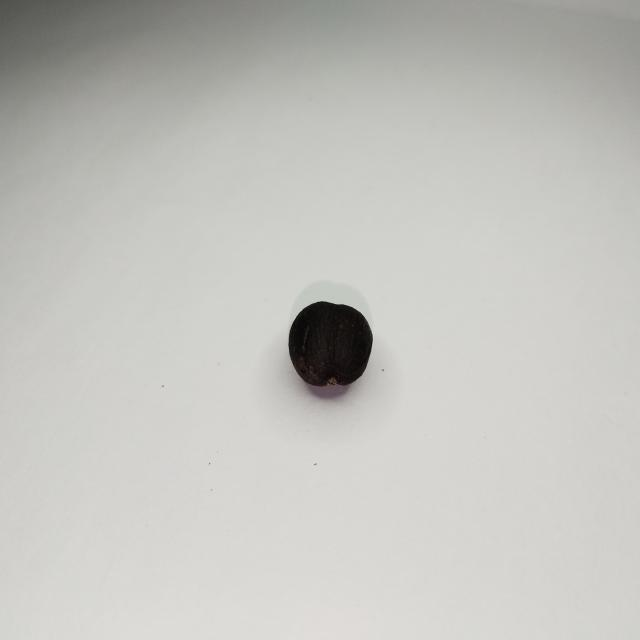Danado: (289, 301, 372, 386)
